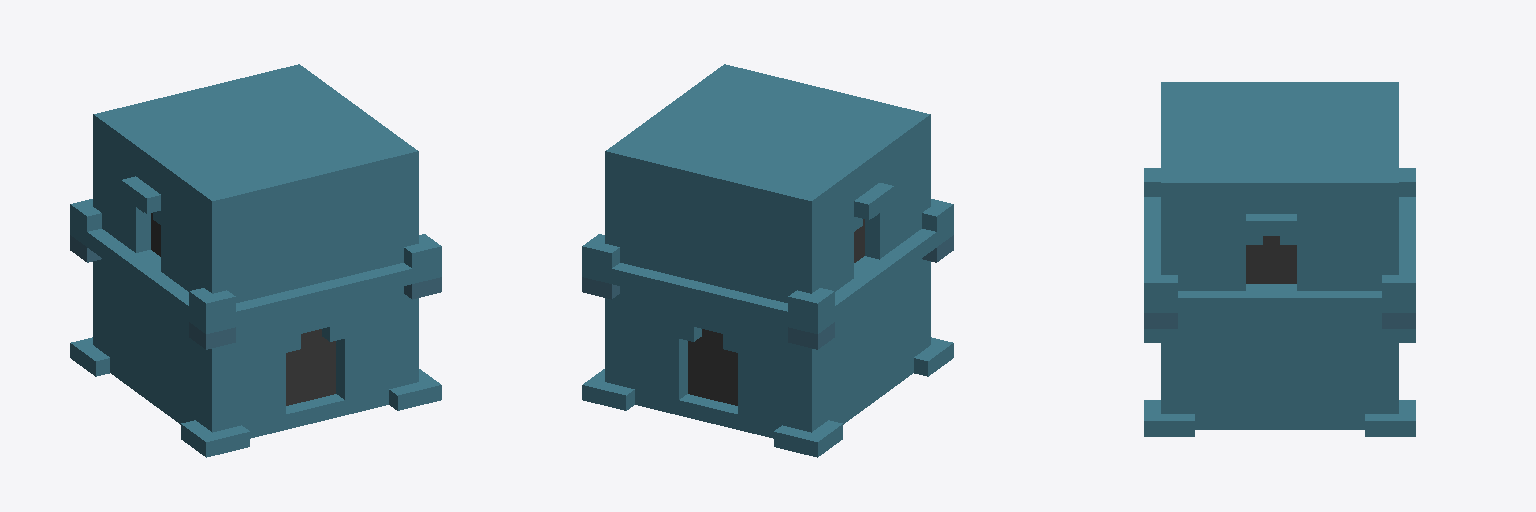
3 renders of one model, left to right at view 1: azimuth 30°, elevation 25°; view 2: azimuth 150°, elevation 25°; view 3: azimuth 270°, elevation 25°, orthographic.
Visible parts, largest first — view 1: object 1; view 2: object 1; view 3: object 1.
Part boxes in pixels (bbox=[...]): object 1: bbox=[70, 64, 441, 457]; object 1: bbox=[582, 64, 953, 457]; object 1: bbox=[1144, 82, 1415, 436].
Size of the model in its own units: 1.6 by 1.6 by 1.6.
Materials: 1 (1 with a texture image).